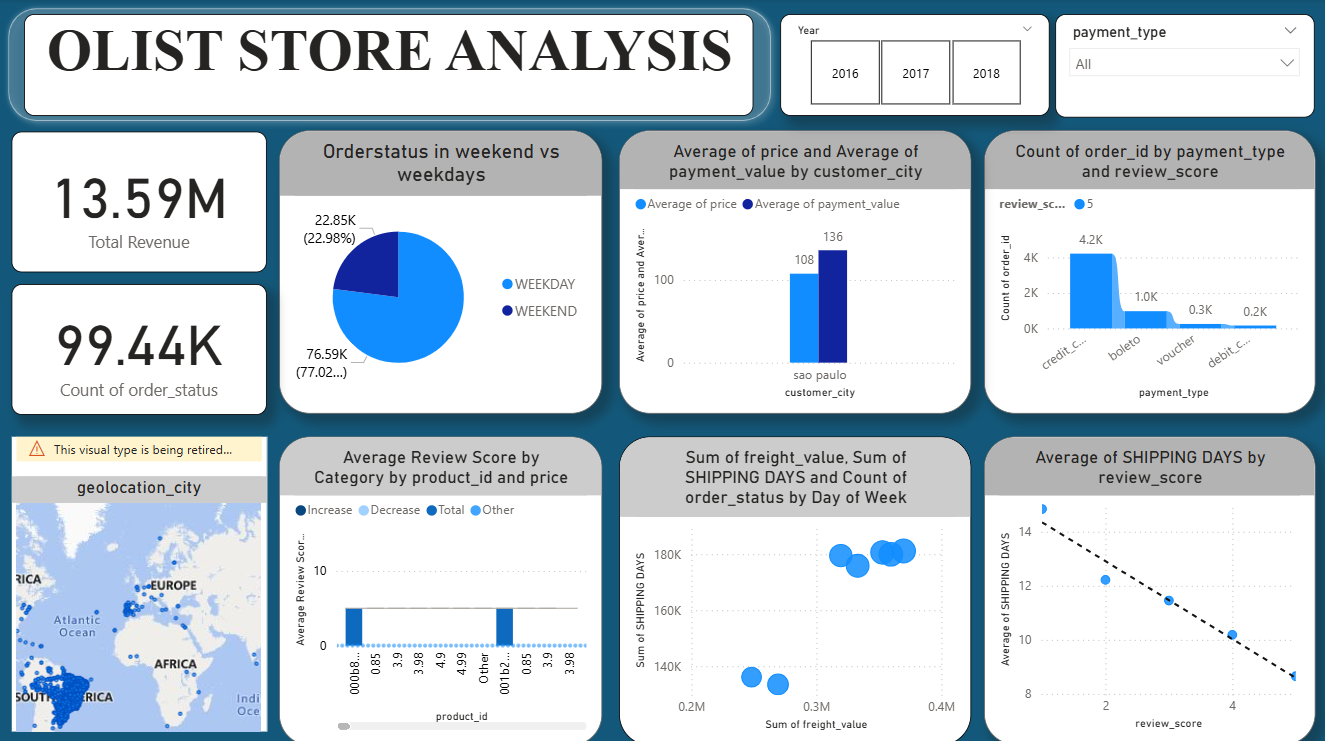

Layout of this report page (visuals, bound fields, positions):
{"tool":"powerbi","page":{"name":"Dashboard-1","canvas":[1280,720],"ordinal":0},"visuals":[{"type":"pieChart","title":"Orderstatus in weekend vs weekdays","fields":{"Category":["olist_orders_dataset.WEEKEND & WEEKDAY"],"Y":["CountNonNull(olist_orders_dataset.order_status)"]},"box":[270.2,127.2,311.8,273.9],"z":0},{"type":"columnChart","fields":{"Category":["olist_order_payments_dataset.payment_type"],"Y":["CountNonNull(olist_order_payments_dataset.order_id)"],"Series":["olist_order_reviews_dataset.review_score"]},"box":[950.7,126.7,319.7,273.9],"z":1000},{"type":"clusteredColumnChart","fields":{"Category":["olist_customers_dataset.customer_city"],"Y":["Avg(olist_order_items_dataset.price)","Avg(olist_order_payments_dataset.payment_value)"]},"box":[598,127.2,339.9,273.9],"z":2000},{"type":"scatterChart","fields":{"Y":["Avg(olist_orders_dataset.SHIPPING DAYS)"],"X":["olist_order_reviews_dataset.review_score"]},"box":[950.7,422.3,319.7,298],"z":3000},{"type":"slicer","fields":{"Values":["olist_orders_dataset.order_purchase_timestamp.Variation.Date Hierarchy.Year"]},"box":[754.1,14.1,259.9,98.6],"z":4000},{"type":"card","fields":{"Values":["CountNonNull(olist_orders_dataset.order_status)"]},"box":[12.5,275,246.2,126.2],"z":5000},{"type":"shape","box":[0,0,754.1,126.7],"z":6000},{"type":"textbox","title":"OLIST STORE ANALYSIS","box":[24.3,14.1,704.1,98.6],"z":7000},{"type":"card","fields":{"Values":["olist_customers_dataset.Total Revenue"]},"box":[12.5,127.5,246.2,136.2],"z":8000},{"type":"slicer","fields":{"Values":["olist_order_payments_dataset.payment_type"]},"box":[1020,14.3,250,100],"z":9000},{"type":"waterfallChart","fields":{"Y":["olist_customers_dataset.Average Review Score by Category"],"Category":["olist_order_items_dataset.product_id"],"Breakdown":["olist_order_items_dataset.price"]},"box":[270.2,421.9,311.8,298.4],"z":10000},{"type":"scatterChart","fields":{"Category":["olist_orders_dataset.Day of Week"],"X":["Sum(olist_order_items_dataset.freight_value)"],"Y":["Sum(olist_orders_dataset.SHIPPING DAYS)"],"Size":["CountNonNull(olist_orders_dataset.order_status)"]},"box":[598,421.9,339.9,298.4],"z":11000},{"type":"columnChart","fields":{"Category":["olist_geolocation_dataset.geolocation_city"],"Y":["CountNonNull(olist_geolocation_dataset.geolocation_state)"]},"box":[12.5,422.5,246.2,285],"z":12000}]}

Visuals, with their boxes in screenshot pixels (x1, y1, x2, y2), scaled from the page's 1280x720 canvas onto the 1325x741 screenshot:
"Orderstatus in weekend vs weekdays" pieChart: Rect(280, 131, 602, 413)
columnChart - olist_order_payments_dataset.payment_type x CountNonNull(olist_order_payments_dataset.order_id): Rect(984, 130, 1315, 412)
clusteredColumnChart - olist_customers_dataset.customer_city x Avg(olist_order_items_dataset.price): Rect(619, 131, 971, 413)
scatterChart - Avg(olist_orders_dataset.SHIPPING DAYS) x olist_order_reviews_dataset.review_score: Rect(984, 435, 1315, 740)
slicer - olist_orders_dataset.order_purchase_timestamp.Variation.Date Hierarchy.Year: Rect(781, 15, 1050, 116)
card - CountNonNull(olist_orders_dataset.order_status): Rect(13, 283, 268, 413)
shape: Rect(0, 0, 781, 130)
"OLIST STORE ANALYSIS" textbox: Rect(25, 15, 754, 116)
card - olist_customers_dataset.Total Revenue: Rect(13, 131, 268, 271)
slicer - olist_order_payments_dataset.payment_type: Rect(1056, 15, 1315, 118)
waterfallChart - olist_customers_dataset.Average Review Score by Category x olist_order_items_dataset.product_id: Rect(280, 434, 602, 740)
scatterChart - olist_orders_dataset.Day of Week x Sum(olist_order_items_dataset.freight_value): Rect(619, 434, 971, 740)
columnChart - olist_geolocation_dataset.geolocation_city x CountNonNull(olist_geolocation_dataset.geolocation_state): Rect(13, 435, 268, 728)
